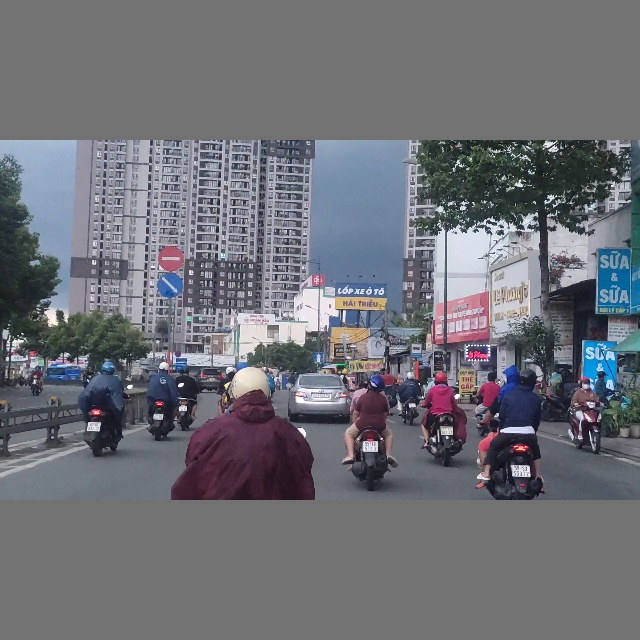I.407a: (313, 352, 324, 362)
I.434a: (411, 343, 422, 358)
P.102: (158, 244, 186, 272)
R.302a: (157, 272, 185, 298)
